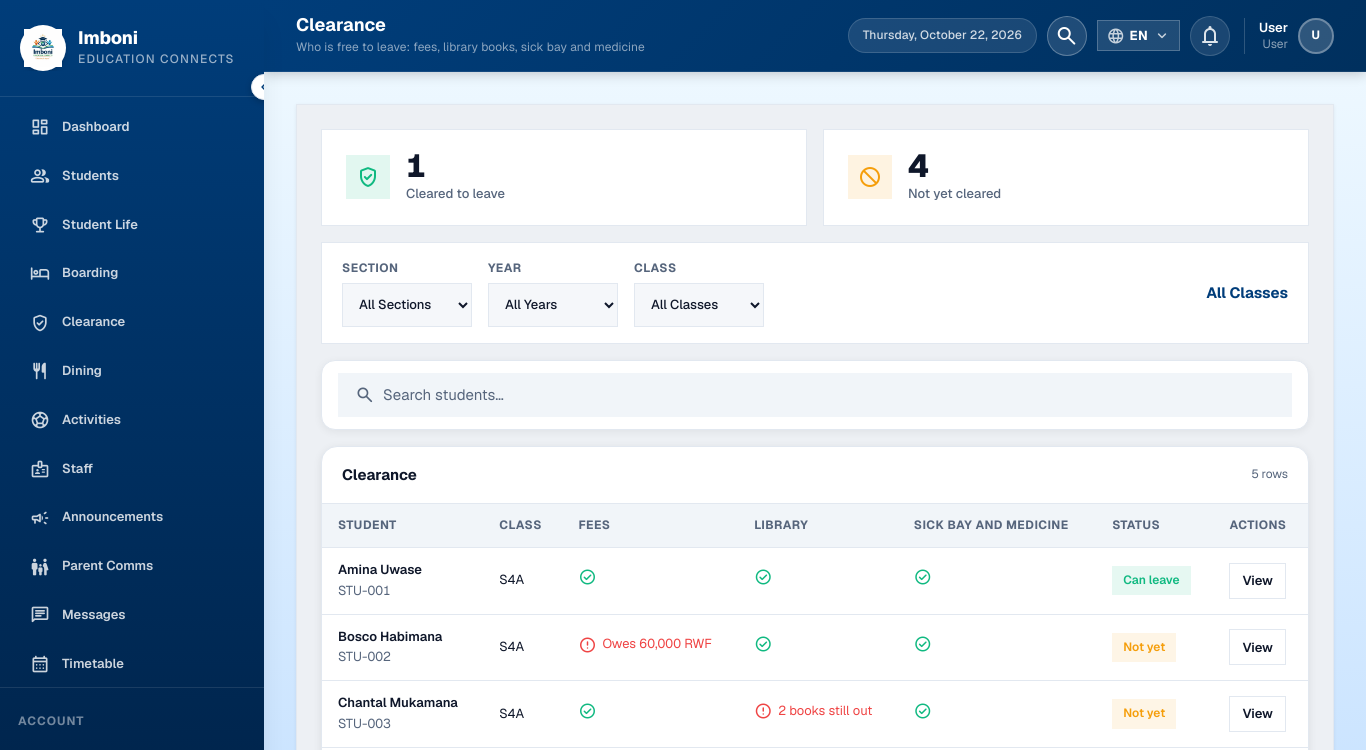
Test: DisClearance › tells a cleared student they can leave
Expected: the text "Amina Uwase" is shown, [338,561,422,578]
Click the button "View" in the row of "Amina Uwase".
click(1258, 581)  # box [1230,563,1286,599]
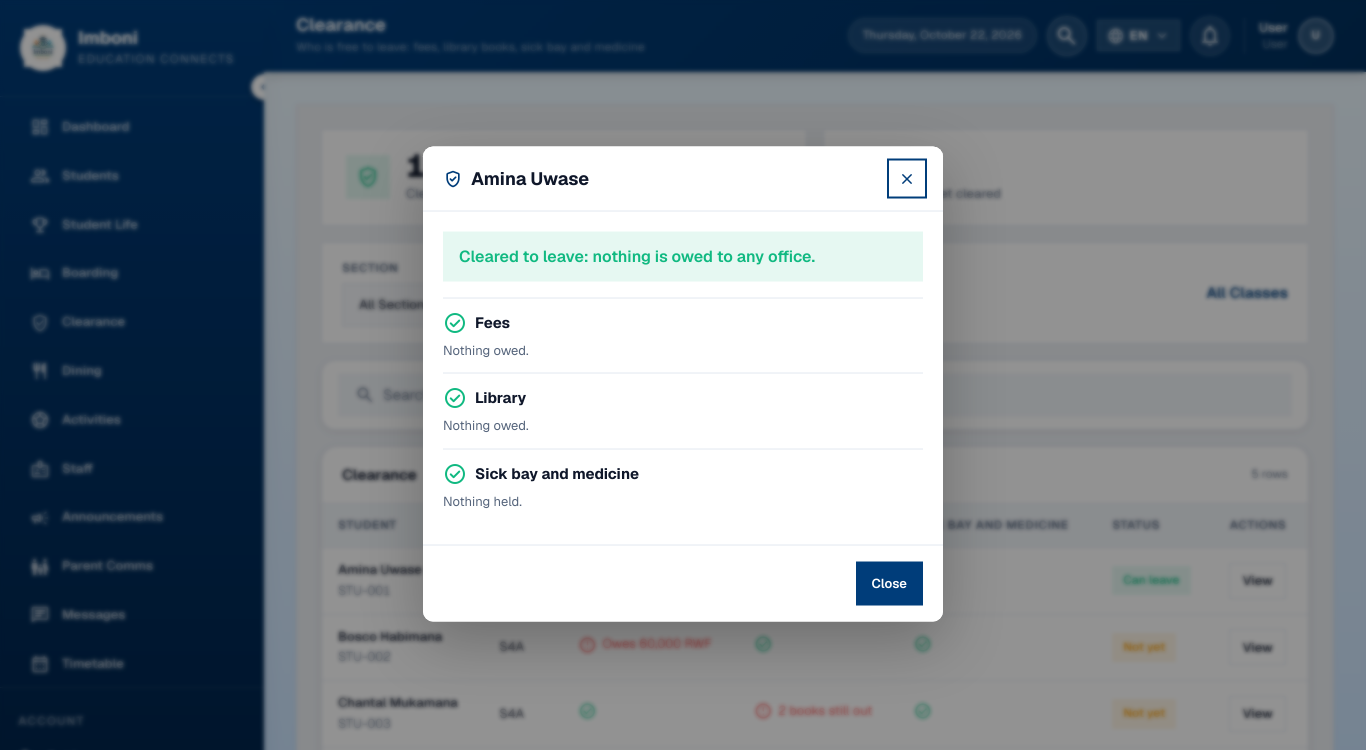
Result: the text "Cleared to leave: nothing is owed to any office." is shown at [443,232,923,281]
